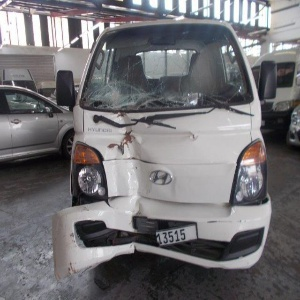bumper: (46, 197, 151, 282)
rear_windshield_glass: (88, 38, 242, 112)
